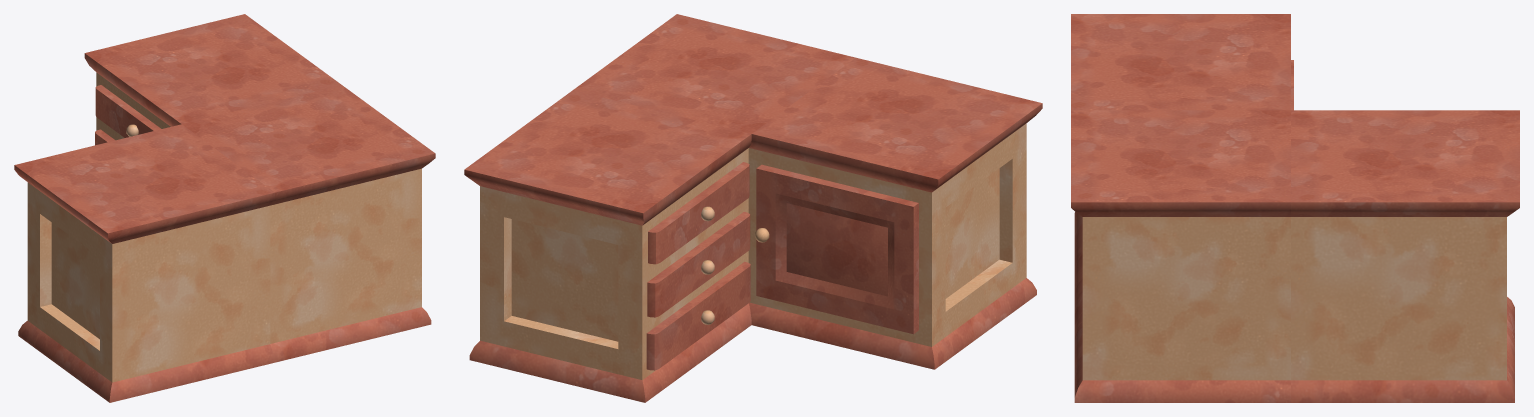
Rendered from SM_Corner_Dresser.fbx.
3 renders of one model, left to right at view 1: azimuth 30°, elevation 25°; view 2: azimuth 150°, elevation 25°; view 3: azimuth 270°, elevation 25°, orthographic. The views are drawn at different scales.
Visible parts, largest first — view 1: SM_Corner_Dresser; view 2: SM_Corner_Dresser; view 3: SM_Corner_Dresser.
Boxes of the visible parts, bbox=[...] form: SM_Corner_Dresser: bbox=[14, 14, 435, 402]; SM_Corner_Dresser: bbox=[464, 14, 1042, 402]; SM_Corner_Dresser: bbox=[1071, 14, 1519, 402].
Bounding box in the file's own units: 199 × 99.41 × 200.
